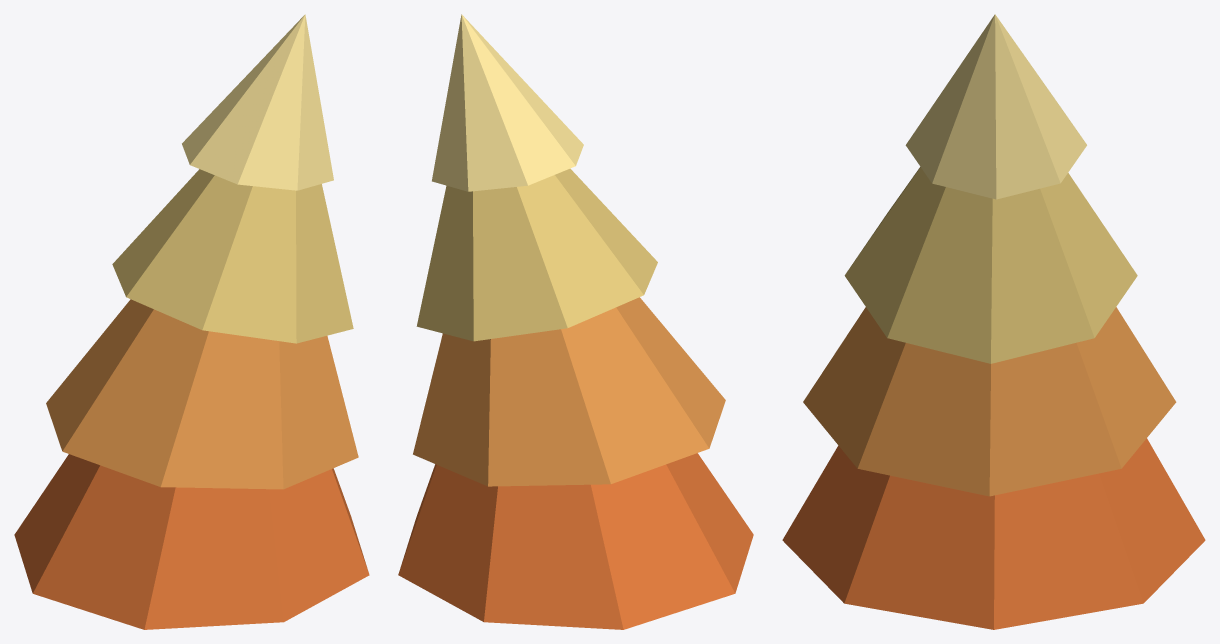
Rendered from 01_02Tree_Orange.fbx.
3 views of the same model, side by side, from view 1: azimuth 30°, elevation 25°; view 2: azimuth 150°, elevation 25°; view 3: azimuth 270°, elevation 25° (orthographic). The views are drawn at different scales.
Visible parts, largest first — view 1: Cone.001; view 2: Cone.001; view 3: Cone.001.
Part boxes in pixels (left/top/right/bottom): Cone.001: left=14, top=14, right=369, bottom=629; Cone.001: left=398, top=14, right=753, bottom=629; Cone.001: left=782, top=14, right=1205, bottom=629.
Bounding box in the file's own units: 125 × 192 × 125.
